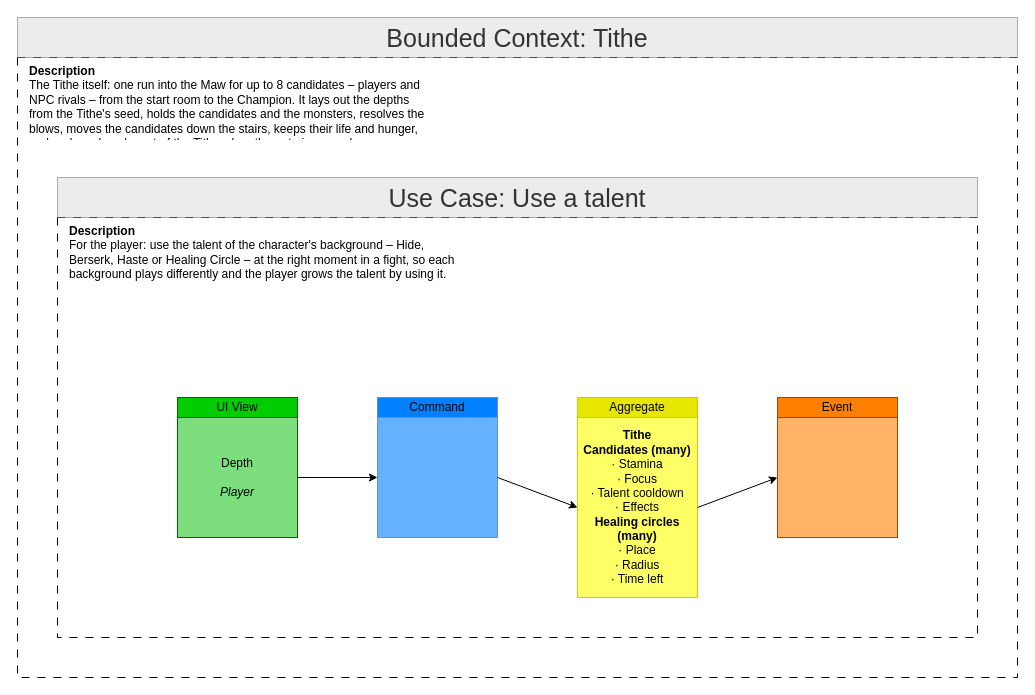
Image size: 1035x695. Some labels were removed from this diagram. Here are the shapes that lost their labels. From the top down, the centre of each, then its label:
the point at 437,477: Use talent Talent
the point at 837,477: Talent used
